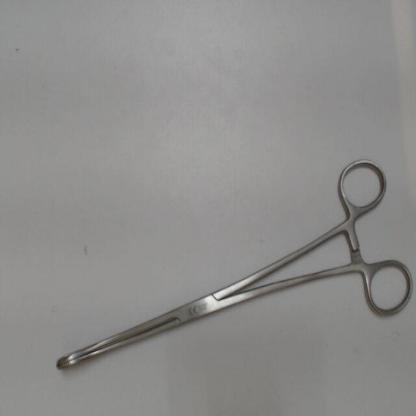Sponge Forceps: (47, 149, 415, 381)
